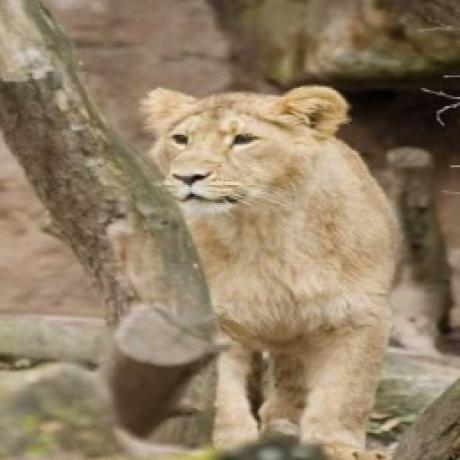Lion: (135, 84, 398, 449)
